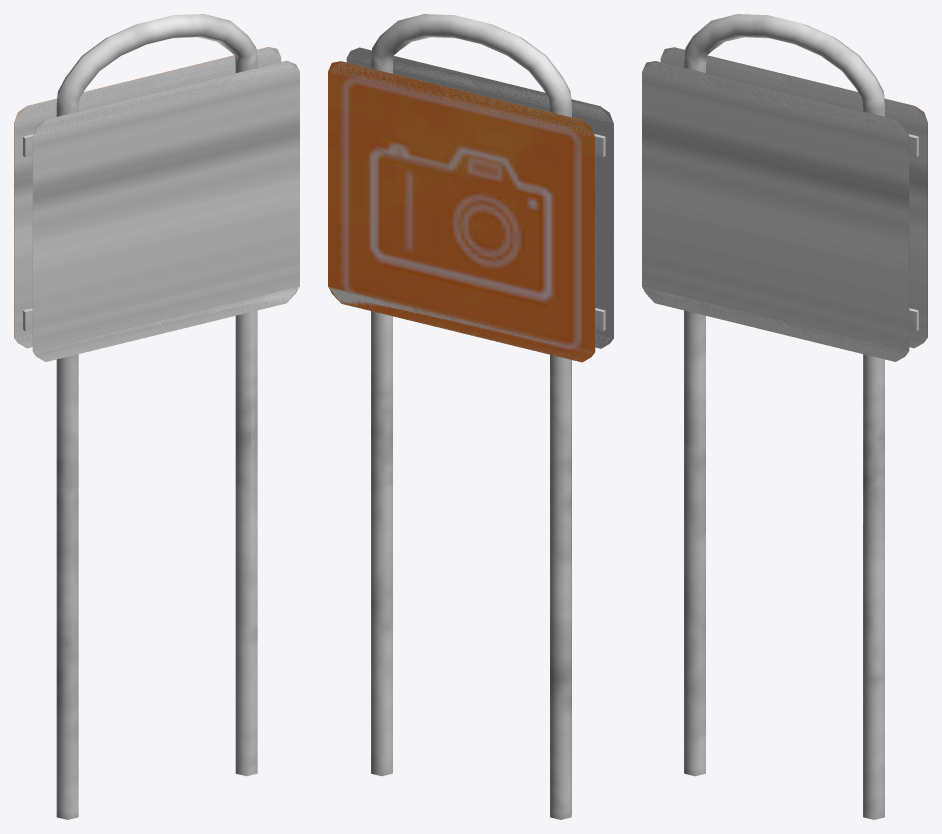
The model's file is objects_un_photospotboard01.gltf.
3 views of the same model, side by side, from view 1: azimuth 30°, elevation 25°; view 2: azimuth 150°, elevation 25°; view 3: azimuth 330°, elevation 25° (orthographic).
Visible parts, largest first — view 1: um_objects_un_photospotboard01_model_lod0Shape:objects_un_ph (×2); view 2: um_objects_un_photospotboard01_model_lod0Shape:objects_un_ph (×2); view 3: um_objects_un_photospotboard01_model_lod0Shape:objects_un_ph (×2).
Boxes of the visible parts, bbox=[...] form: um_objects_un_photospotboard01_model_lod0Shape:objects_un_ph (×2): bbox=[14, 14, 299, 819]; um_objects_un_photospotboard01_model_lod0Shape:objects_un_ph (×2): bbox=[328, 14, 613, 819]; um_objects_un_photospotboard01_model_lod0Shape:objects_un_ph (×2): bbox=[642, 14, 927, 819].
Size of what is drawn, in the model's own units: 0.7081 by 1.96 by 0.0867.
Materials: 2 (1 with a texture image).
